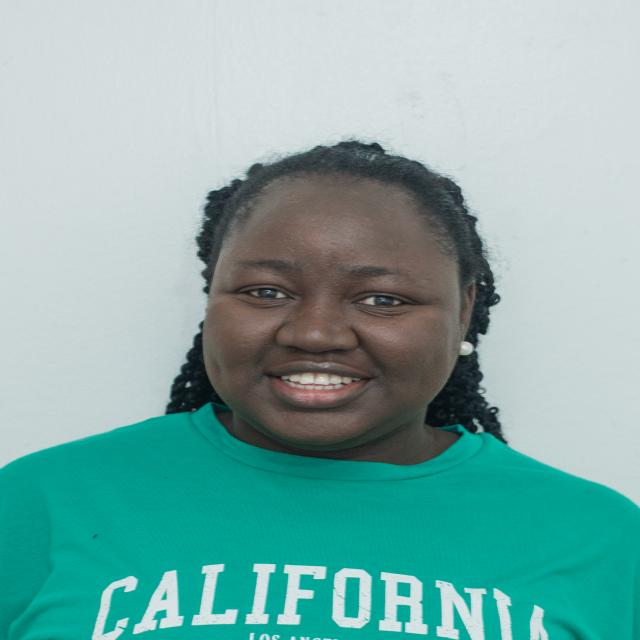happy: (181, 134, 489, 463)
